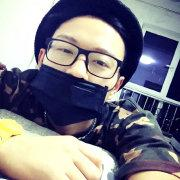WRONG: (36, 35, 121, 121)
